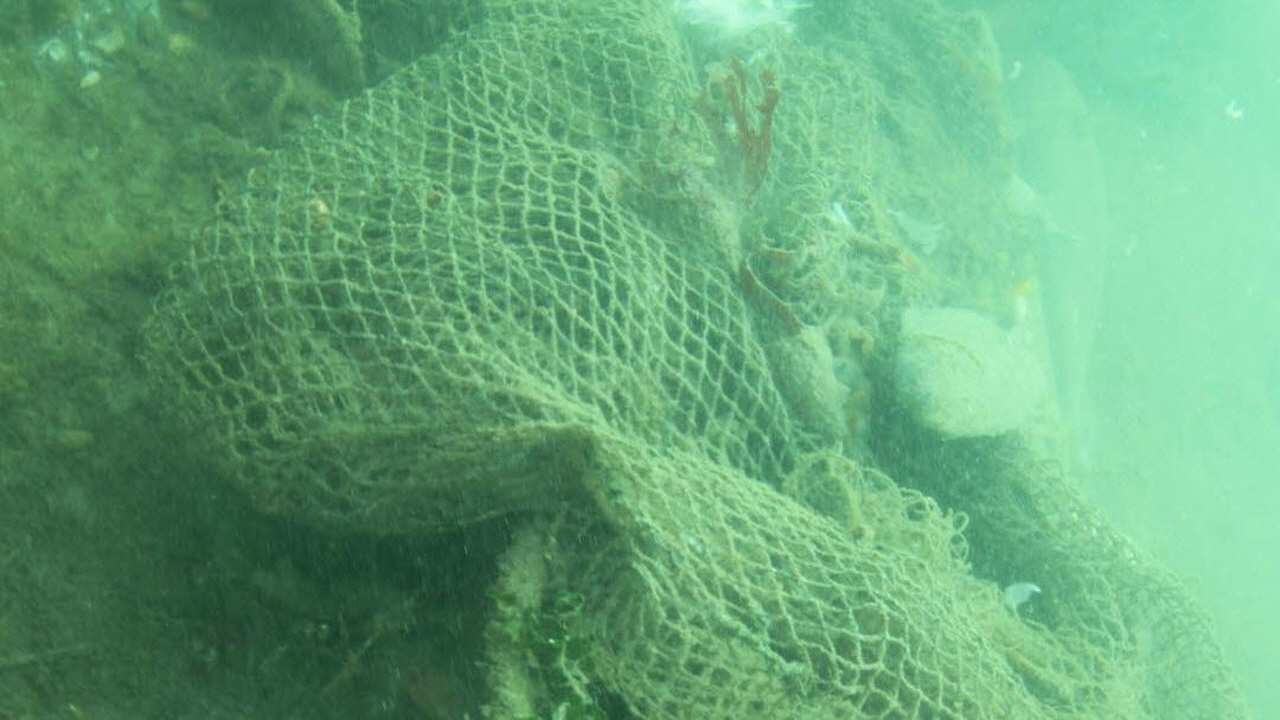fish net: (136, 0, 1259, 720)
